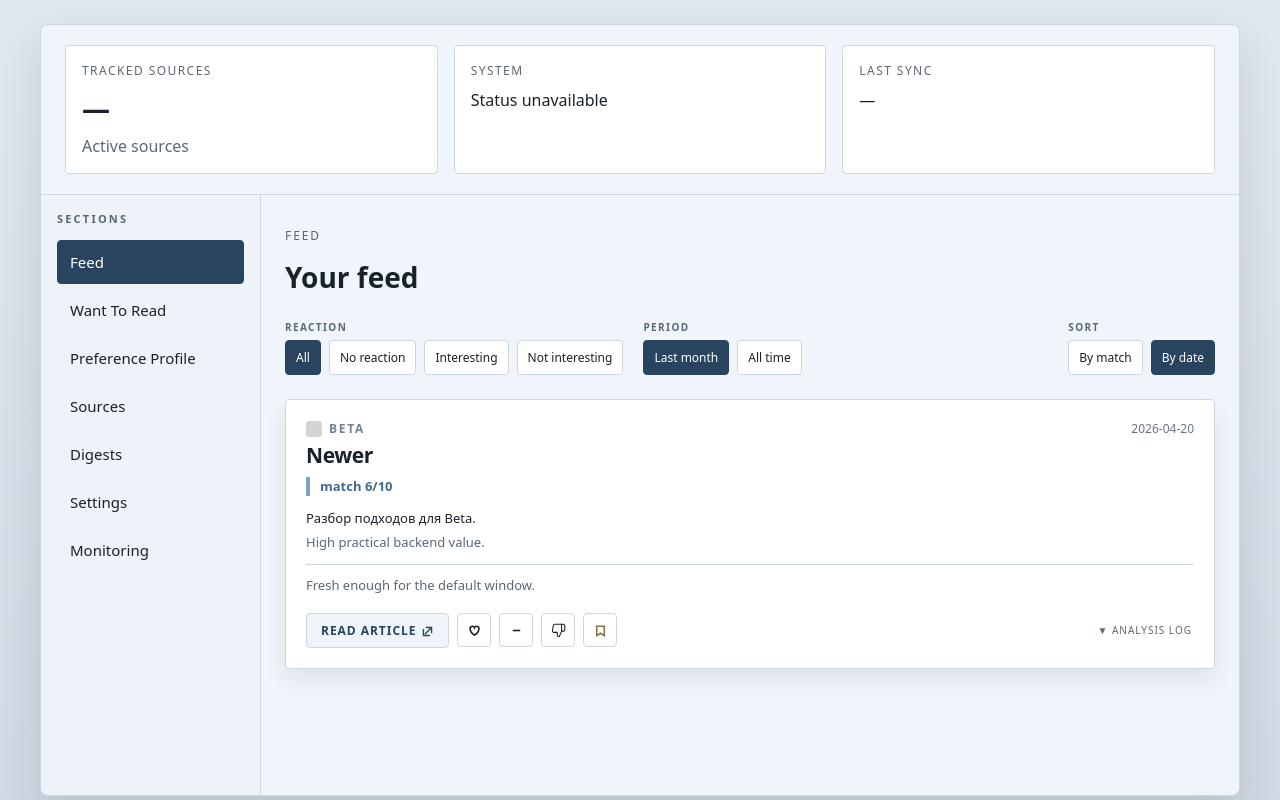
Test: feed page renders feed-only sort controls on the same toolbar row as filters
expect the heading "Newer" is shown: met, box top-left (306, 443), bottom-right (373, 467)
expect the button "All" is shown: met, box top-left (285, 340), bottom-right (321, 375)
What coordinates should you click on to do the following:
click the button "Monitoring"
I would click on:
 (150, 550)
Its box is top-left (57, 528), bottom-right (244, 572).
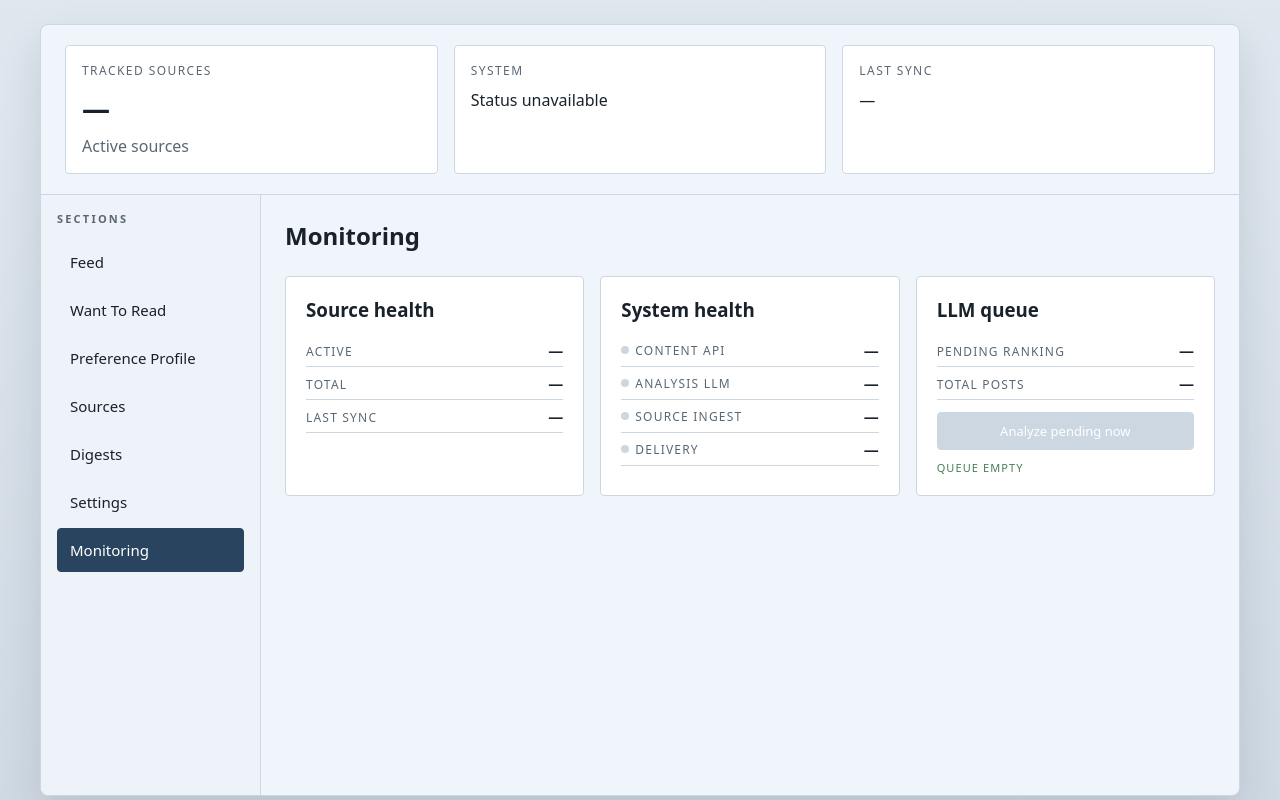
expect the button "By match" is gone: met
expect the button "By date" is gone: met
